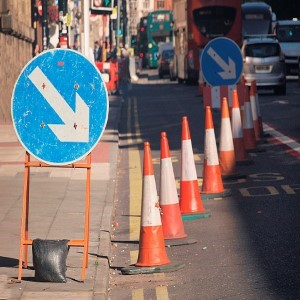traffic cone: (122, 142, 185, 274), (146, 132, 198, 246), (167, 115, 211, 219), (189, 105, 232, 199), (205, 96, 247, 181), (220, 88, 254, 167)
